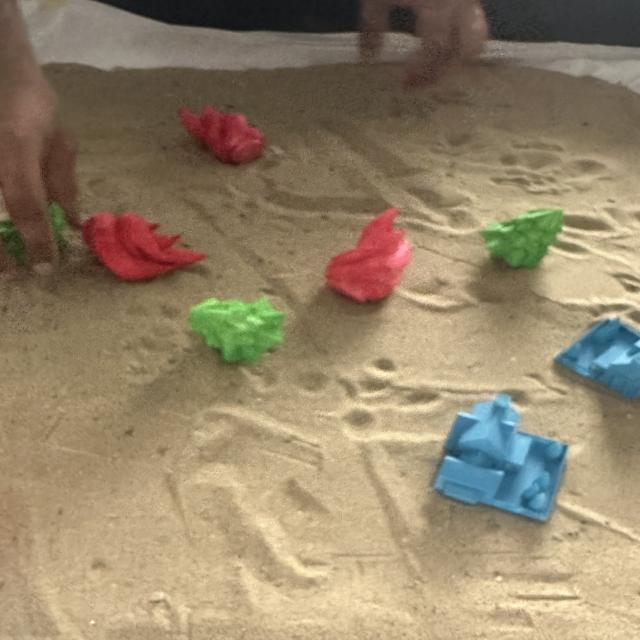fire: (321, 204, 415, 304), (82, 208, 210, 281), (175, 102, 268, 166)
house: (428, 391, 570, 524), (556, 316, 640, 396)
tree: (186, 294, 288, 366), (0, 203, 74, 271), (485, 205, 564, 265)
